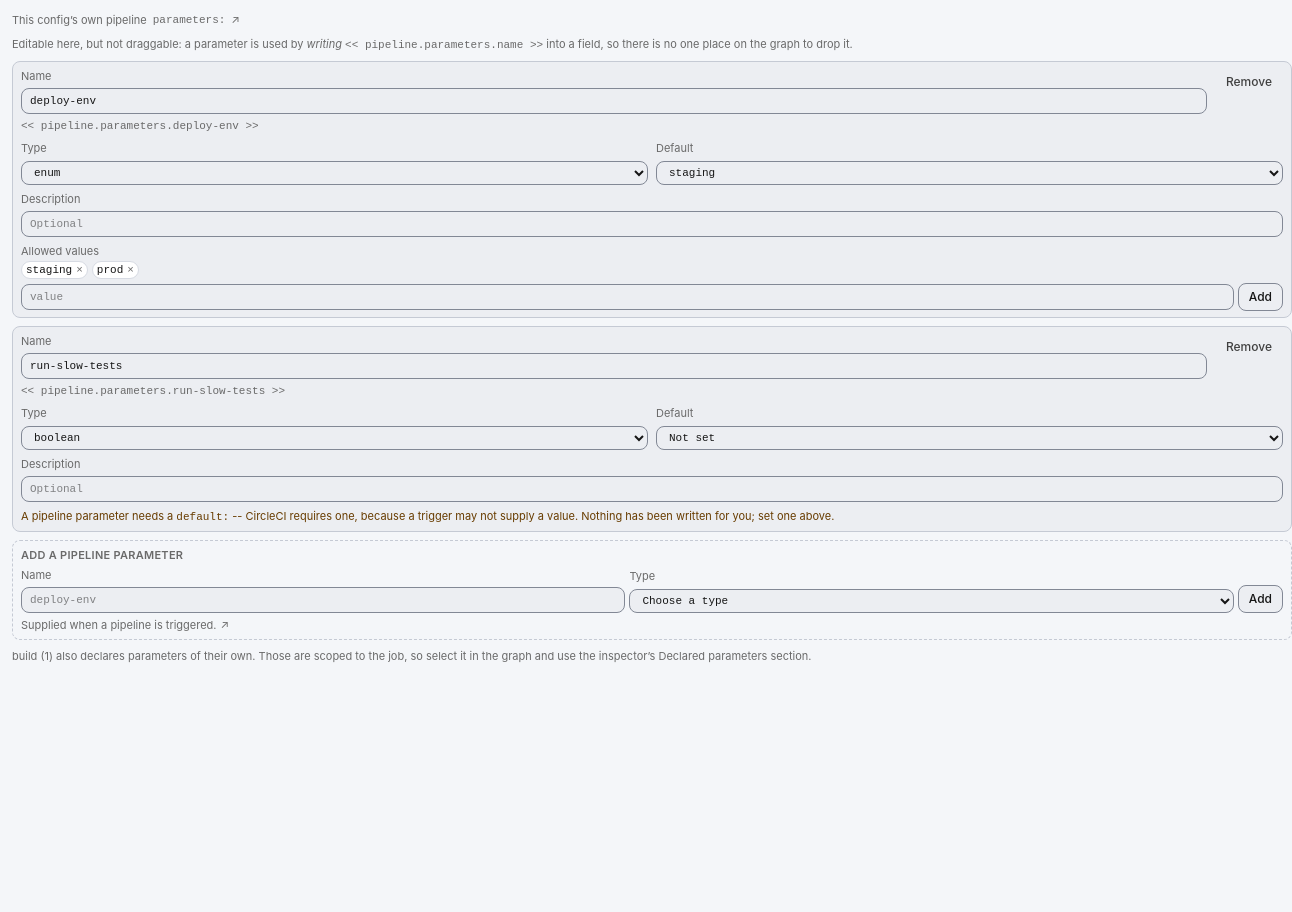
Scenario: PaletteParameterSection › will not add a parameter until a type is chosen
In the field named "Name of the new pipeline parameter": (323, 600) x1=21 y1=587 x2=625 y2=613, type "image-tag"
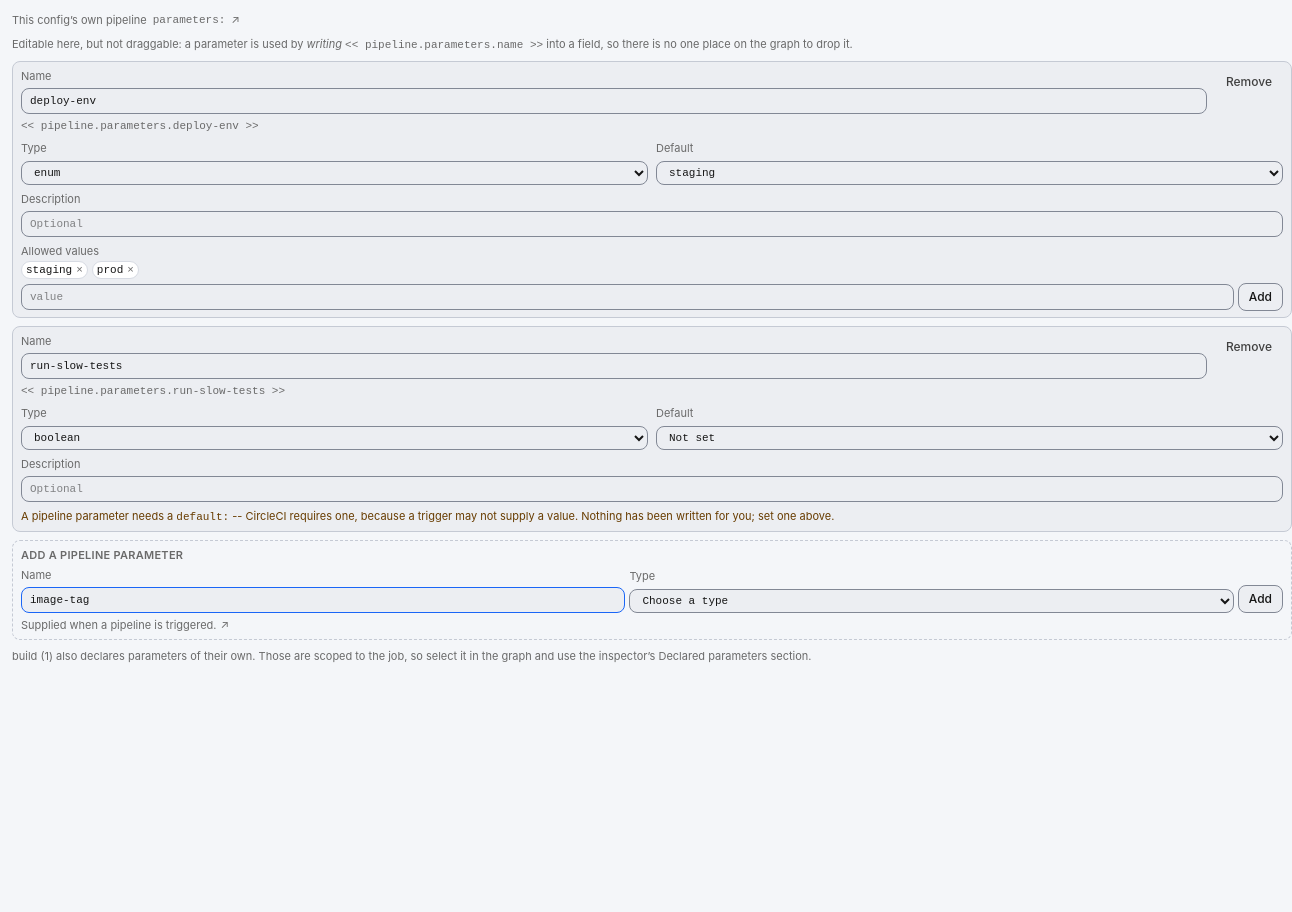
Click the button with aria-label "Add pipeline parameter": (1260, 599) x1=1238 y1=585 x2=1283 y2=613
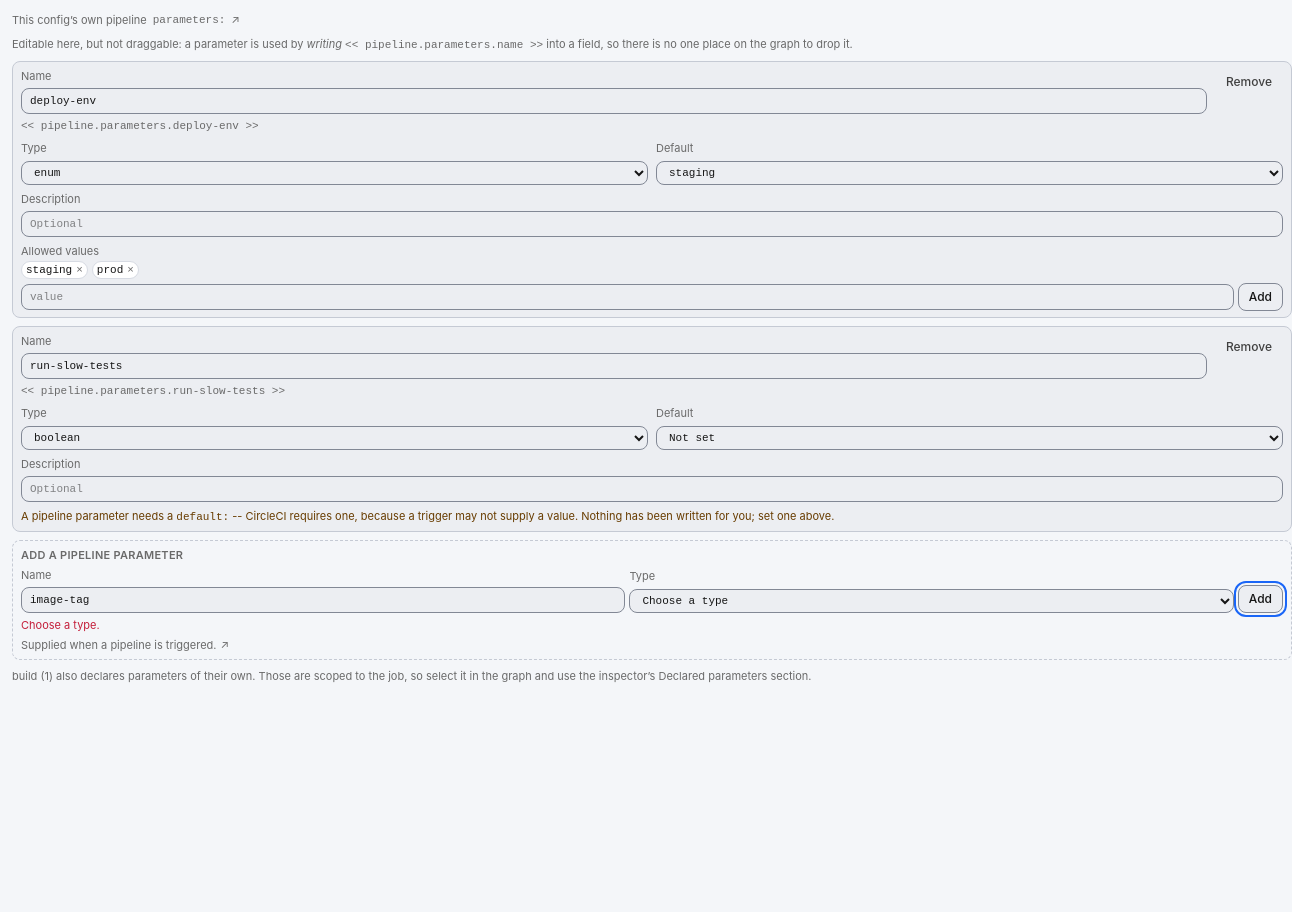
Now the text "Choose a type." is shown, box x1=21 y1=618 x2=100 y2=632
